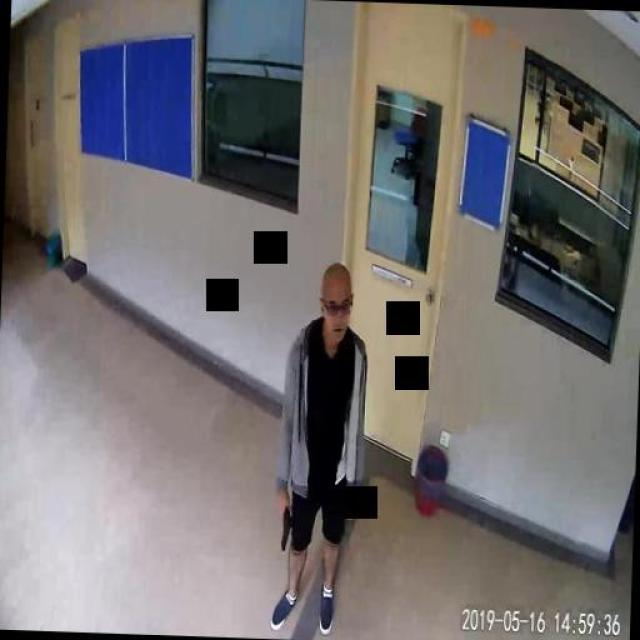gun: (275, 500, 290, 549)
